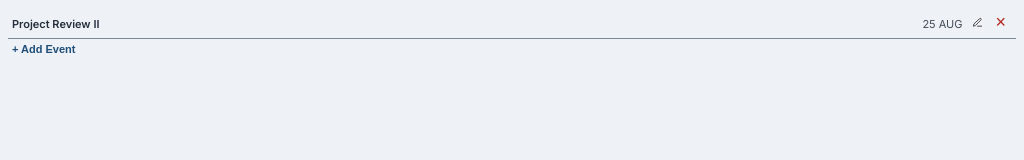
it: MilestoneColumn › keeps color untouched by default, and passes the chosen color once Custom color is checked
The image size is (1024, 160).
Later steps or results of the test are not shown.
Click the button titled "Move this event" at (976,24), box [968,17,984,30]
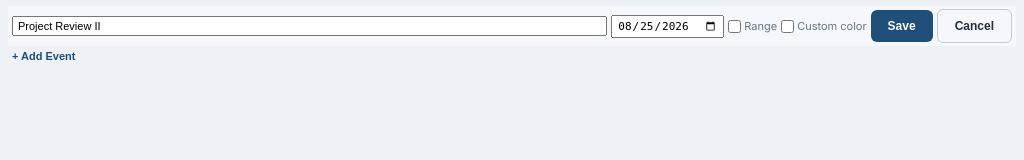
Click the button "Save" at (902,26), box [871,10,933,42]
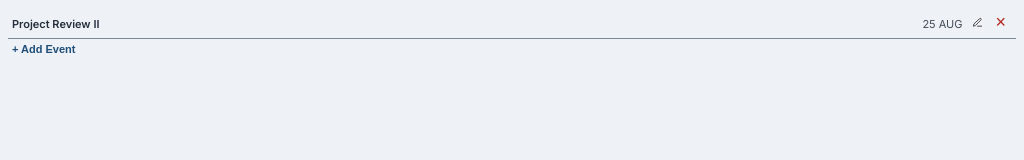
Click the button titled "Move this event" at (976,24), box [968,17,984,30]
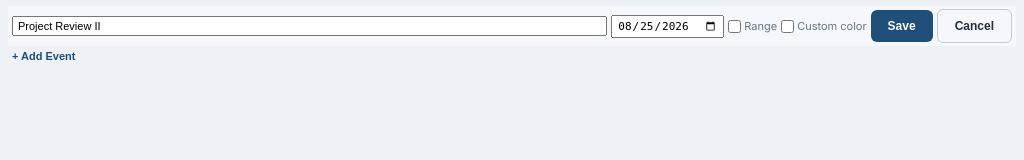
Click the checkbox labelled "Custom color" at (788,26), box [781,20,794,32]
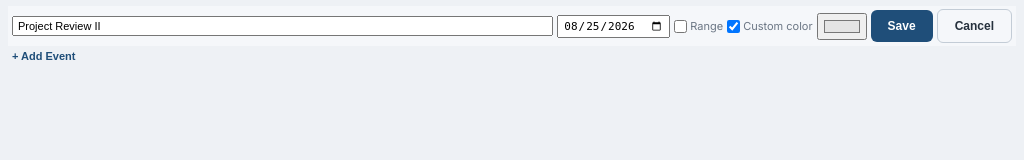
expect the colour field named "Pick a color" is shown: met, box [817,12,867,40]
